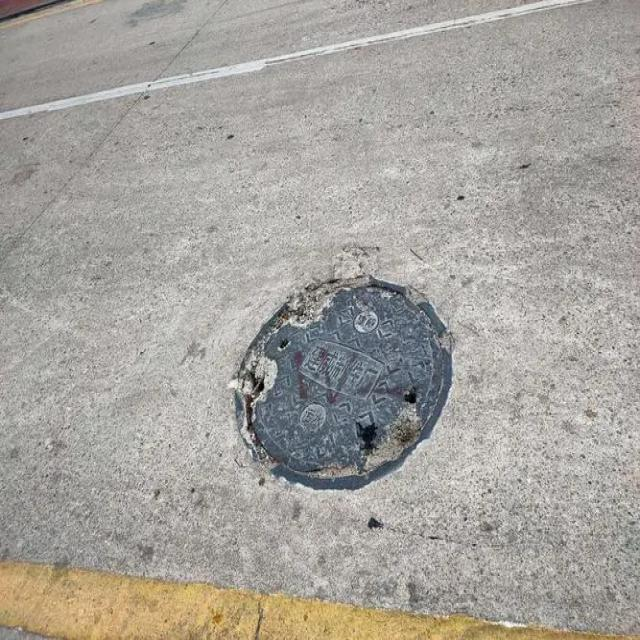manhole: (235, 275, 452, 489)
